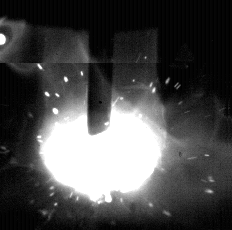arame: (88, 0, 112, 135)
poca: (38, 0, 161, 230)
